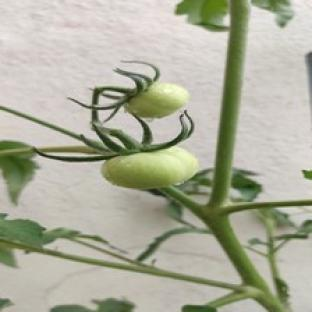Tomato: (102, 147, 199, 189), (126, 83, 189, 118)
